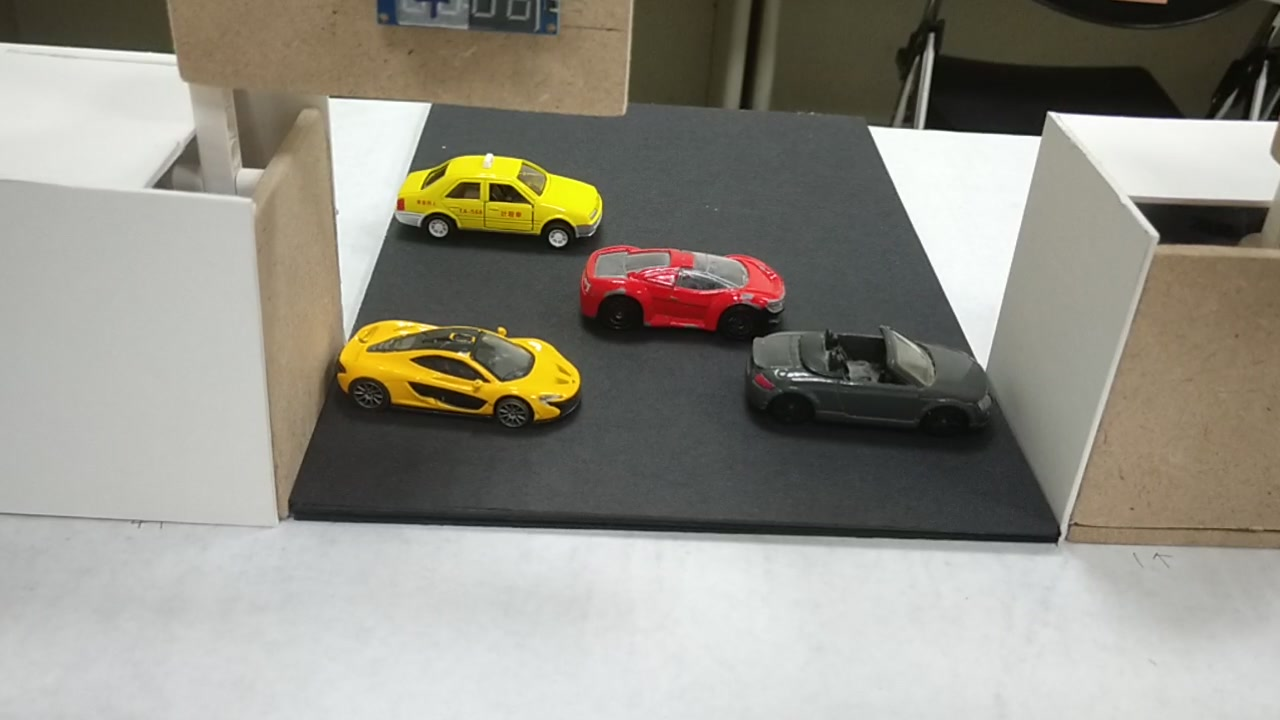car: (328, 324, 579, 428), (742, 333, 993, 430), (396, 159, 601, 236), (587, 249, 788, 324)
